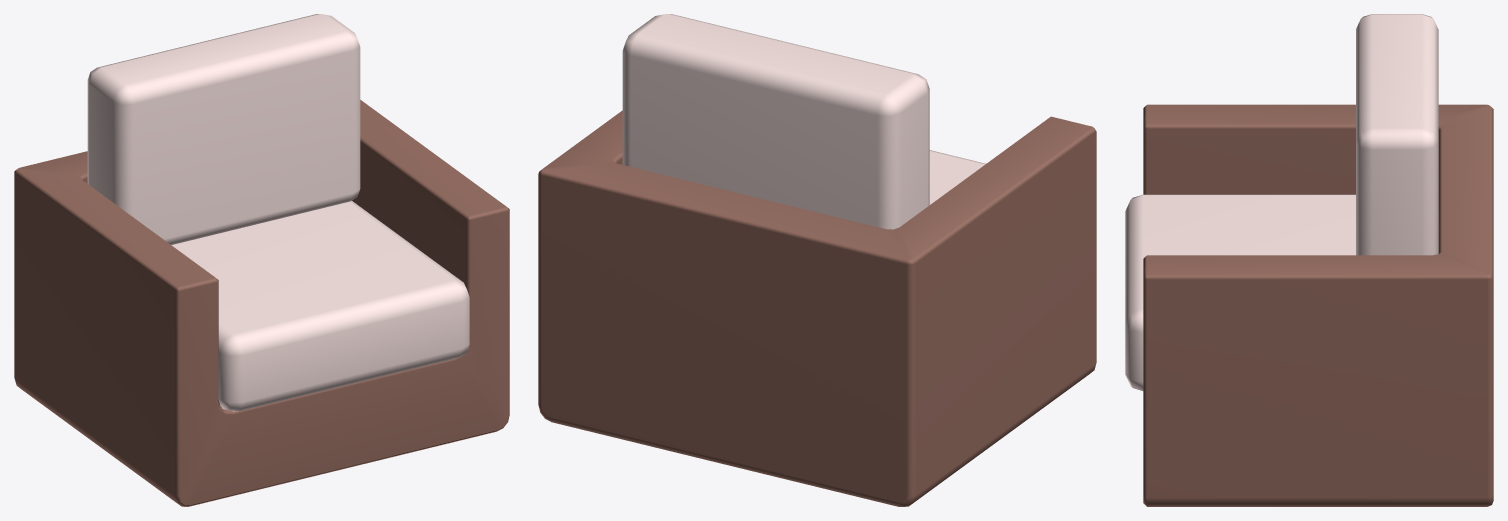
Rendered from Town_18_Outdoor_Armchair_1.glb.
3 renders of one model, left to right at view 1: azimuth 30°, elevation 25°; view 2: azimuth 150°, elevation 25°; view 3: azimuth 270°, elevation 25°, orthographic. The views are drawn at different scales.
Visible parts, largest first — view 1: Town_18_Outdoor_Armchair_1; view 2: Town_18_Outdoor_Armchair_1; view 3: Town_18_Outdoor_Armchair_1.
Part boxes in pixels (x1=…): Town_18_Outdoor_Armchair_1: x1=14, y1=14, x2=509, y2=506; Town_18_Outdoor_Armchair_1: x1=538, y1=14, x2=1096, y2=506; Town_18_Outdoor_Armchair_1: x1=1125, y1=14, x2=1493, y2=506.
Bounding box in the file's own units: 1.22 × 1.16 × 1.09.
1 material, 1 textured.
